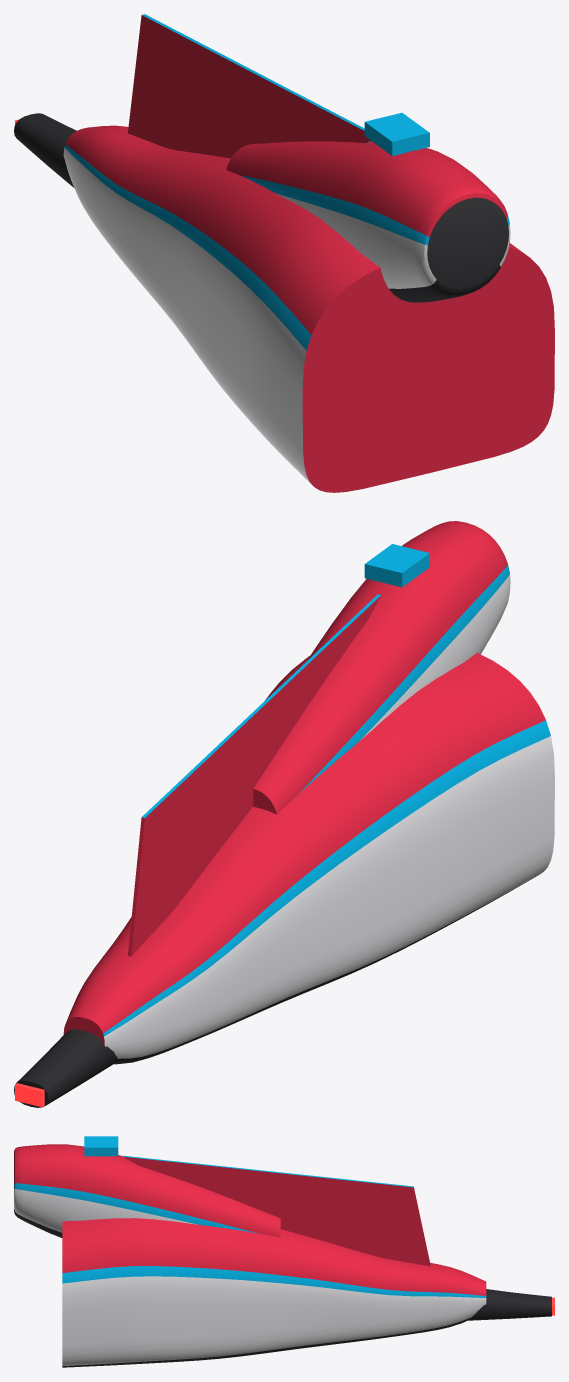
The model's file is sharkfin.glb.
3 views of the same model, one above another, from view 1: azimuth 30°, elevation 25°; view 2: azimuth 150°, elevation 25°; view 3: azimuth 270°, elevation 25° (orthographic). The views are drawn at different scales.
Visible parts, largest first — view 1: EngineCover_sharkfin; view 2: EngineCover_sharkfin; view 3: EngineCover_sharkfin.
Boxes of the visible parts, bbox=[...] form: EngineCover_sharkfin: bbox=[14, 14, 554, 492]; EngineCover_sharkfin: bbox=[14, 521, 554, 1107]; EngineCover_sharkfin: bbox=[14, 1136, 554, 1367].
Size of the model in its own units: 0.74 by 0.9064 by 2.23.
